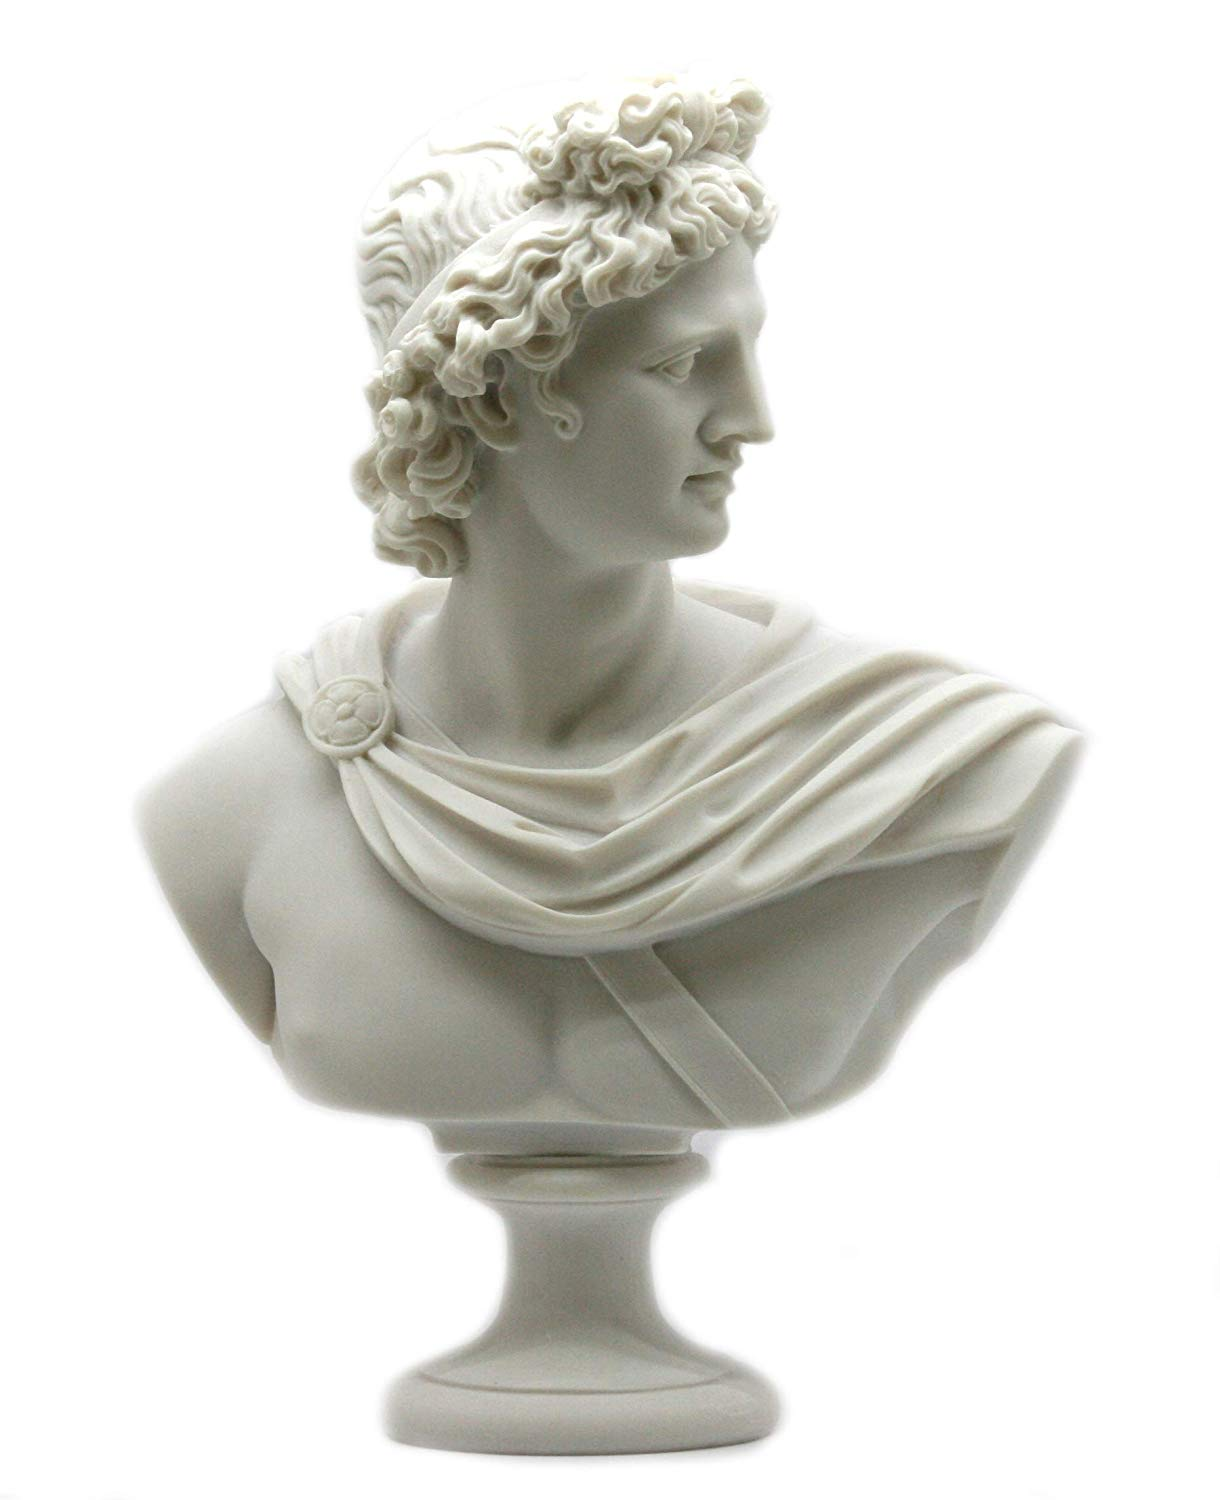person-like: (100, 52, 1123, 1485)
